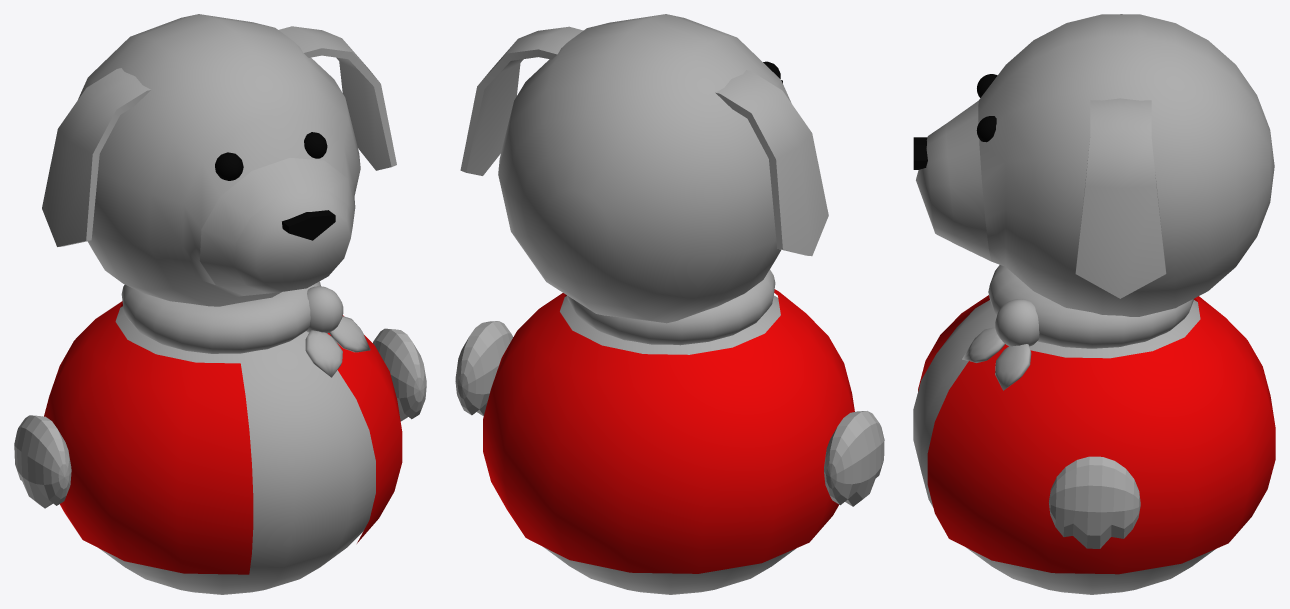
File: Dog.fbx
The picture shows the model from 3 angles, left to right: view 1: azimuth 30°, elevation 25°; view 2: azimuth 150°, elevation 25°; view 3: azimuth 270°, elevation 25°; orthographic projection. The views are drawn at different scales.
Parts seen in each view (by area): view 1: Head, Clothes, Body, Scarf, Player1:Ear_L, Player1:Ear_R1, Hand_L, Hand_R, Player2:Knot, Player2:L, Player1:Nose, Player2:R (+1 smaller); view 2: Clothes, Head, Player1:Ear_L, Body, Player1:Ear_R1, Scarf, Hand_L, Hand_R; view 3: Head, Clothes, Player1:Ear_R1, Body, Hand_R, Scarf, Player2:Knot, Player2:R, Player2:L.
Part boxes in pixels (box(x1,y1,x2,y2)): Head: box(78, 14, 360, 306); Clothes: box(44, 301, 402, 574); Body: box(99, 306, 375, 594); Scarf: box(121, 281, 320, 353); Player1:Ear_L: box(42, 68, 150, 246); Player1:Ear_R1: box(279, 26, 396, 170); Hand_L: box(14, 415, 71, 508); Hand_R: box(373, 328, 426, 421); Player2:Knot: box(306, 286, 343, 333); Player2:L: box(305, 330, 342, 377); Player1:Nose: box(282, 210, 335, 240); Player2:R: box(329, 316, 370, 352); Clothes: box(483, 289, 854, 573); Head: box(498, 14, 791, 323); Player1:Ear_L: box(715, 70, 828, 256); Body: box(543, 295, 796, 594); Player1:Ear_R1: box(460, 26, 583, 175); Scarf: box(567, 269, 775, 345); Hand_L: box(824, 411, 884, 506); Hand_R: box(455, 321, 513, 416); Head: box(916, 14, 1274, 316); Clothes: box(918, 295, 1275, 574); Player1:Ear_R1: box(1075, 98, 1166, 298); Body: box(913, 300, 1215, 594); Hand_R: box(1049, 456, 1140, 548); Scarf: box(988, 265, 1193, 348); Player2:Knot: box(995, 299, 1039, 346); Player2:R: box(995, 344, 1031, 390); Player2:L: box(962, 327, 1004, 362).
Bounding box in the file's own units: 3.01 × 3.94 × 2.36.
